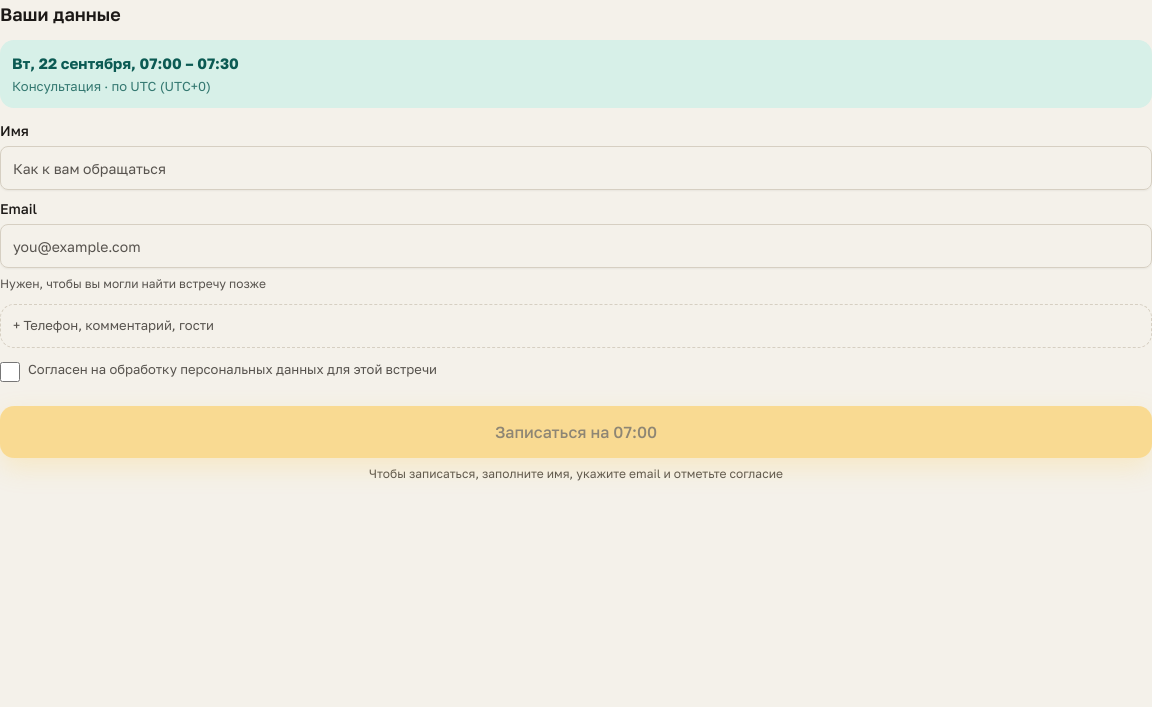
it: BookingForm › форматирует телефон по маске при вводе
Click the button "+ Телефон, комментарий, гости".
click(119, 325)  # box [0,304,1151,348]
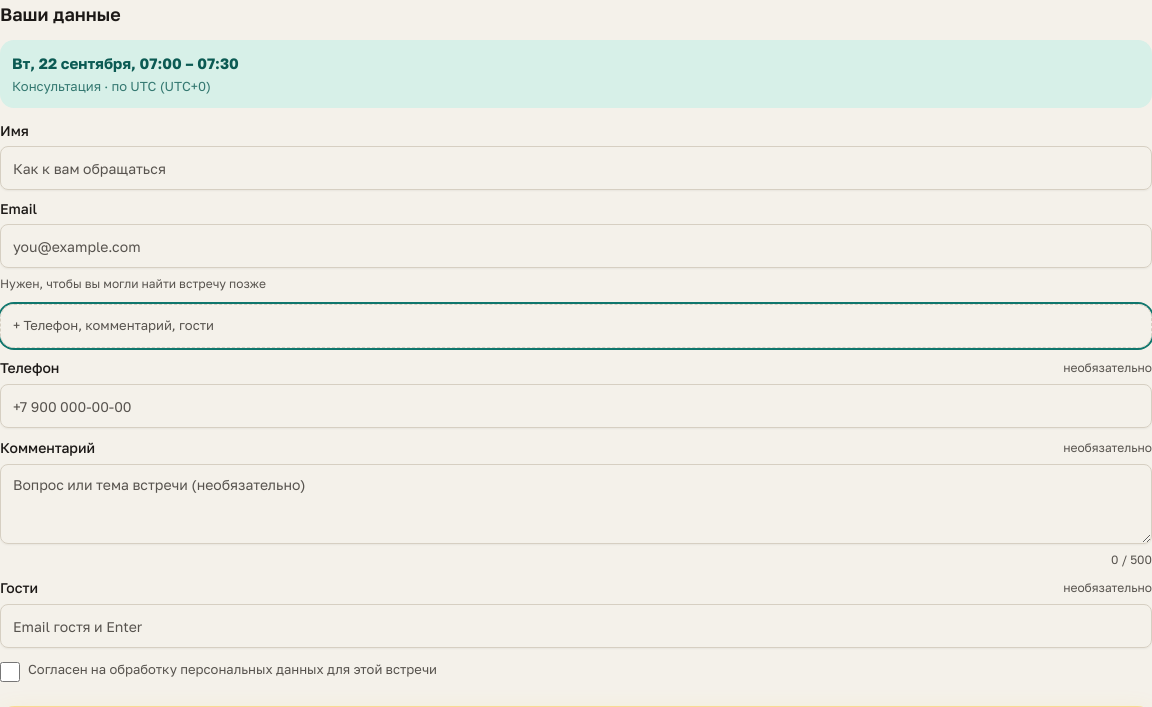
Type "79000000000" into the field labelled "Телефон".
click(576, 406); type("79000000000")  # box [0,384,1151,428]
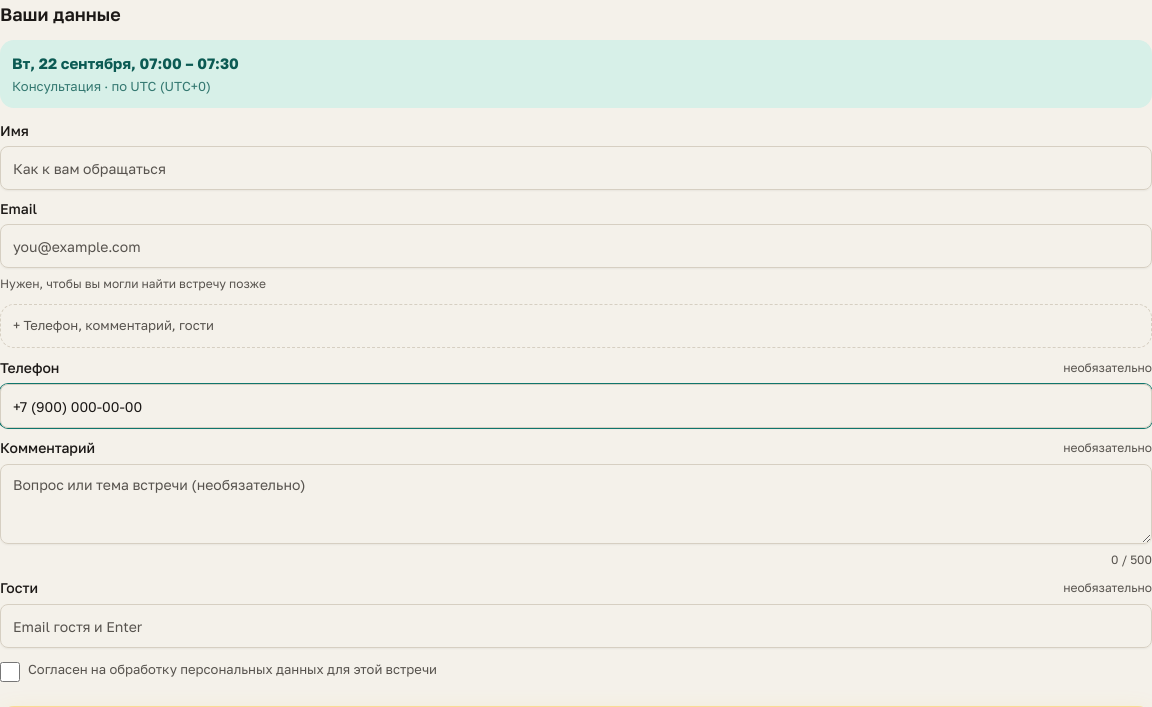
Expected: the field labelled "Телефон" holds "+7 (900) 000-00-00", [0,384,1151,428]
